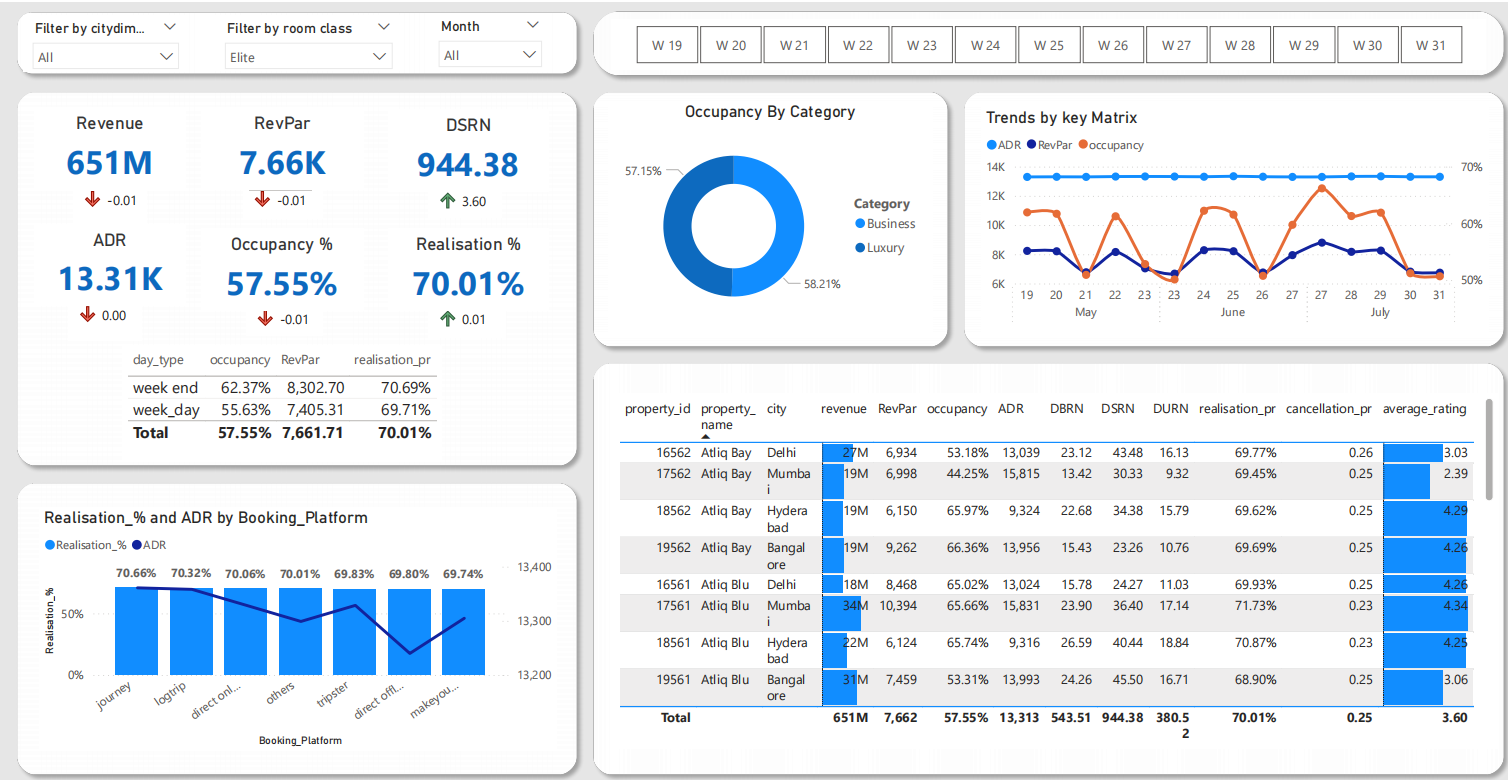

This screenshot's page, from the dashboard's own definition file:
{"tool":"powerbi","page":{"name":"Page 1","canvas":[1550,800],"ordinal":0},"visuals":[{"type":"shape","box":[10,82.9,590,400],"z":0},{"type":"tableEx","fields":{"Values":["key_measures.average_rating"]},"box":[440,158.6,74.3,61.4],"z":1000},{"type":"shape","box":[10,484.3,590,315.7],"z":2000},{"type":"shape","box":[600,361.4,950,438.6],"z":3000},{"type":"shape","box":[600,1.4,950,81.4],"z":4000},{"type":"shape","box":[600,82.9,380,278.6],"z":5000},{"type":"shape","box":[980,82.9,570,278.6],"z":6000},{"type":"shape","box":[10,1.4,590,80],"z":7000},{"type":"tableEx","fields":{"Values":["key_measures.Realisation WoW change %"]},"box":[440,280,78.6,62.9],"z":8000},{"type":"tableEx","fields":{"Values":["key_measures.Occupancy WoW change %"]},"box":[252.9,280,78.6,61.4],"z":9000},{"type":"tableEx","fields":{"Values":["key_measures.ADR WoW change %"]},"box":[71.4,276.3,74.3,70],"z":10000},{"type":"tableEx","fields":{"Values":["dim_hotels.property_id","dim_hotels.property_name","dim_hotels.city","key_measures.revenue","key_measures.RevPar","key_measures.occupancy","key_measures.ADR","key_measures.DBRN","key_measures.DSRN","key_measures.DURN","key_measures.realisation_pr","key_measures.cancellation_pr"]},"box":[630,400,905.7,364.3],"z":11000},{"type":"slicer","fields":{"Values":["dim_hotels.city"]},"box":[24.3,12.9,170,58.6],"z":12000},{"type":"slicer","fields":{"Values":["dim_rooms.room_class"]},"box":[221.4,12.9,191.4,57.1],"z":13000},{"type":"slicer","fields":{"Values":["dim_Data.mmm yy .Variation.Date Hierarchy.Month"]},"box":[440,11.4,125.7,60],"z":14000},{"type":"slicer","fields":{"Values":["dim_Data.week no"]},"box":[627.1,17.1,895.7,51.4],"z":15000},{"type":"tableEx","fields":{"Values":["key_measures.Revenue WoW change %"]},"box":[75.7,161.4,75.7,68.6],"z":16000},{"type":"donutChart","title":"Occupancy By Category","fields":{"Category":["dim_hotels.category"],"Y":["key_measures.occupancy"]},"box":[624.3,101.4,332.9,237.1],"z":17000},{"type":"card","title":"Revenue","fields":{"Values":["key_measures.revenue"]},"box":[35.7,107.1,155.7,85.7],"z":18000},{"type":"card","title":"ADR","fields":{"Values":["key_measures.ADR"]},"box":[35.7,227.1,155.7,84.3],"z":19000},{"type":"card","title":"Occupancy %","fields":{"Values":["key_measures.occupancy"]},"box":[207.1,231.4,165.7,84.3],"z":20000},{"type":"tableEx","fields":{"Values":["key_measures.Revpar WoW change %"]},"box":[250,161.4,81.4,60],"z":21000},{"type":"card","title":"Realisation %","fields":{"Values":["key_measures.realisation_pr"]},"box":[398.6,231.4,164.3,84.3],"z":22000},{"type":"card","title":"RevPar","fields":{"Values":["key_measures.RevPar"]},"box":[207.1,107.1,165.7,85],"z":23000},{"type":"card","title":"DSRN","fields":{"Values":["key_measures.DSRN"]},"box":[398.6,108.6,164.3,85],"z":24000},{"type":"lineChart","title":"Trends by key Matrix","fields":{"Y":["key_measures.ADR","key_measures.RevPar"],"Category":["dim_Data.mmm yy .Variation.Date Hierarchy.Month","dim_Data.wn"],"Y2":["key_measures.occupancy"]},"box":[1005.7,107.1,520,231.4],"z":25000},{"type":"lineStackedColumnComboChart","fields":{"Y":["key_measures.realisation_pr"],"Category":["facts_booking.booking_platform"],"Y2":["key_measures.ADR"]},"box":[41.4,517.1,530,250],"z":26000},{"type":"tableEx","fields":{"Values":["dim_Data.day_type","key_measures.occupancy","key_measures.RevPar","key_measures.realisation_pr"]},"box":[125.7,351.4,327.1,118.6],"z":27000}]}

Visuals, with their boxes in screenshot pixels (x1, y1, x2, y2), scaled from the page's 1550x800 canvas onto the 1508x780 screenshot:
shape: bbox=(10, 81, 584, 471)
tableEx - key_measures.average_rating: bbox=(428, 155, 500, 214)
shape: bbox=(10, 472, 584, 779)
shape: bbox=(584, 352, 1507, 779)
shape: bbox=(584, 1, 1507, 81)
shape: bbox=(584, 81, 953, 352)
shape: bbox=(953, 81, 1507, 352)
shape: bbox=(10, 1, 584, 79)
tableEx - key_measures.Realisation WoW change %: bbox=(428, 273, 505, 334)
tableEx - key_measures.Occupancy WoW change %: bbox=(246, 273, 323, 333)
tableEx - key_measures.ADR WoW change %: bbox=(69, 269, 142, 338)
tableEx - dim_hotels.property_id x dim_hotels.property_name: bbox=(613, 390, 1494, 745)
slicer - dim_hotels.city: bbox=(24, 13, 189, 70)
slicer - dim_rooms.room_class: bbox=(215, 13, 402, 68)
slicer - dim_Data.mmm yy .Variation.Date Hierarchy.Month: bbox=(428, 11, 550, 70)
slicer - dim_Data.week no: bbox=(610, 17, 1482, 67)
tableEx - key_measures.Revenue WoW change %: bbox=(74, 157, 147, 224)
"Occupancy By Category" donutChart: bbox=(607, 99, 931, 330)
"Revenue" card: bbox=(35, 104, 186, 188)
"ADR" card: bbox=(35, 221, 186, 304)
"Occupancy %" card: bbox=(201, 226, 363, 308)
tableEx - key_measures.Revpar WoW change %: bbox=(243, 157, 322, 216)
"Realisation %" card: bbox=(388, 226, 548, 308)
"RevPar" card: bbox=(201, 104, 363, 187)
"DSRN" card: bbox=(388, 106, 548, 189)
"Trends by key Matrix" lineChart: bbox=(978, 104, 1484, 330)
lineStackedColumnComboChart - key_measures.realisation_pr x facts_booking.booking_platform: bbox=(40, 504, 556, 748)
tableEx - dim_Data.day_type x key_measures.occupancy: bbox=(122, 343, 441, 458)
